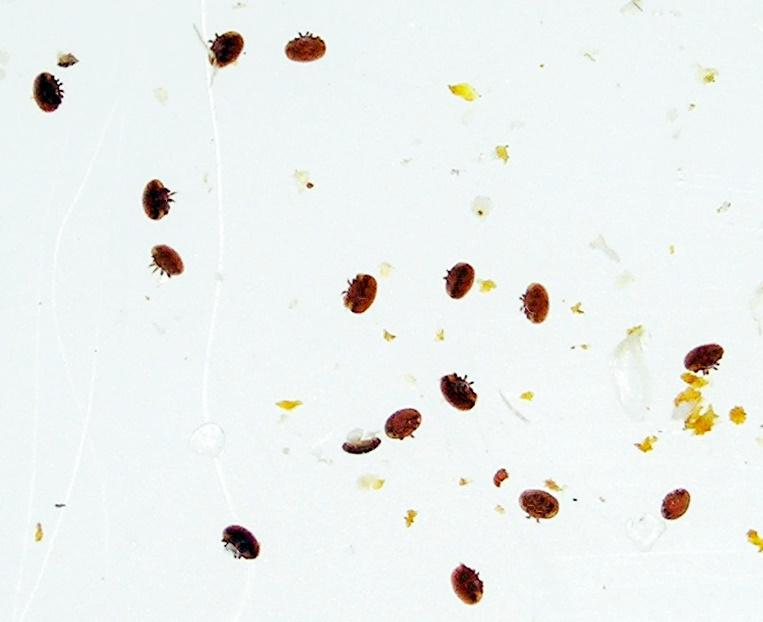Varroa: (339, 264, 376, 306), (529, 484, 563, 523), (690, 337, 723, 374), (385, 402, 418, 439), (212, 26, 243, 61), (440, 371, 475, 401), (521, 284, 553, 316), (136, 183, 169, 214), (442, 259, 469, 295), (656, 488, 687, 519), (454, 559, 485, 590), (154, 242, 185, 273), (292, 33, 320, 66), (34, 86, 59, 116), (233, 532, 252, 550)
